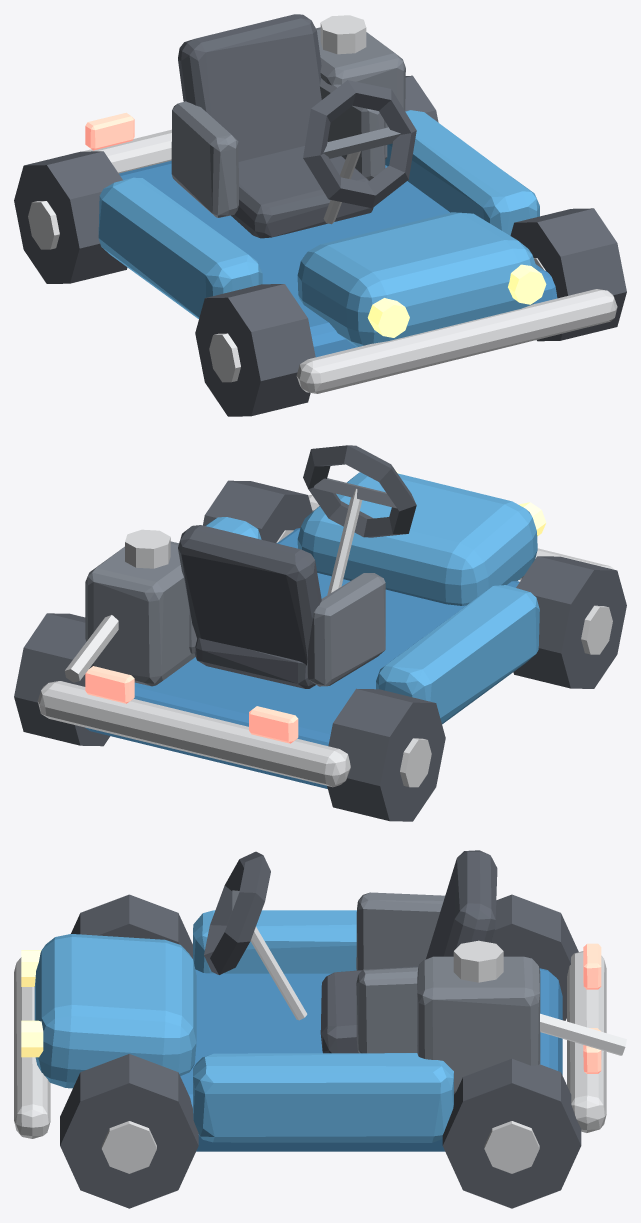
Rendered from lowpoly_kart.glb.
The picture shows the model from 3 angles, top to bottom: view 1: azimuth 30°, elevation 25°; view 2: azimuth 150°, elevation 25°; view 3: azimuth 270°, elevation 25°; orthographic projection. The views are drawn at different scales.
Visible parts, largest first — view 1: lowpoly_kart; view 2: lowpoly_kart; view 3: lowpoly_kart.
Part boxes in pixels (x1,y1,x2,y2): lowpoly_kart: (14,14,626,416); lowpoly_kart: (14,445,626,821); lowpoly_kart: (14,850,626,1208).
Size of the model in its own units: 1.66 by 1.03 by 2.21.
